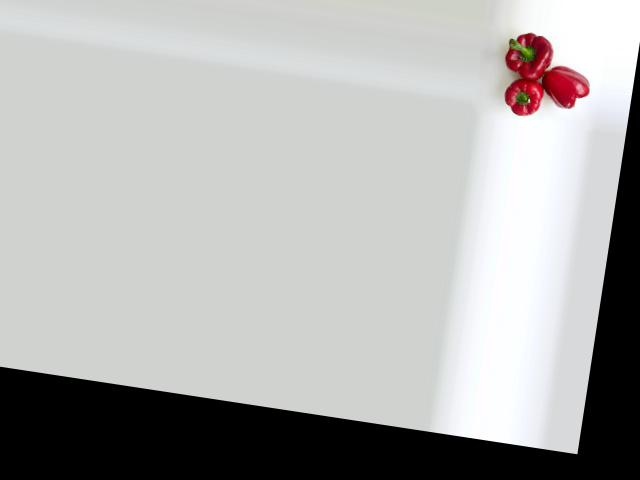bell_pepper: (536, 59, 599, 120)
